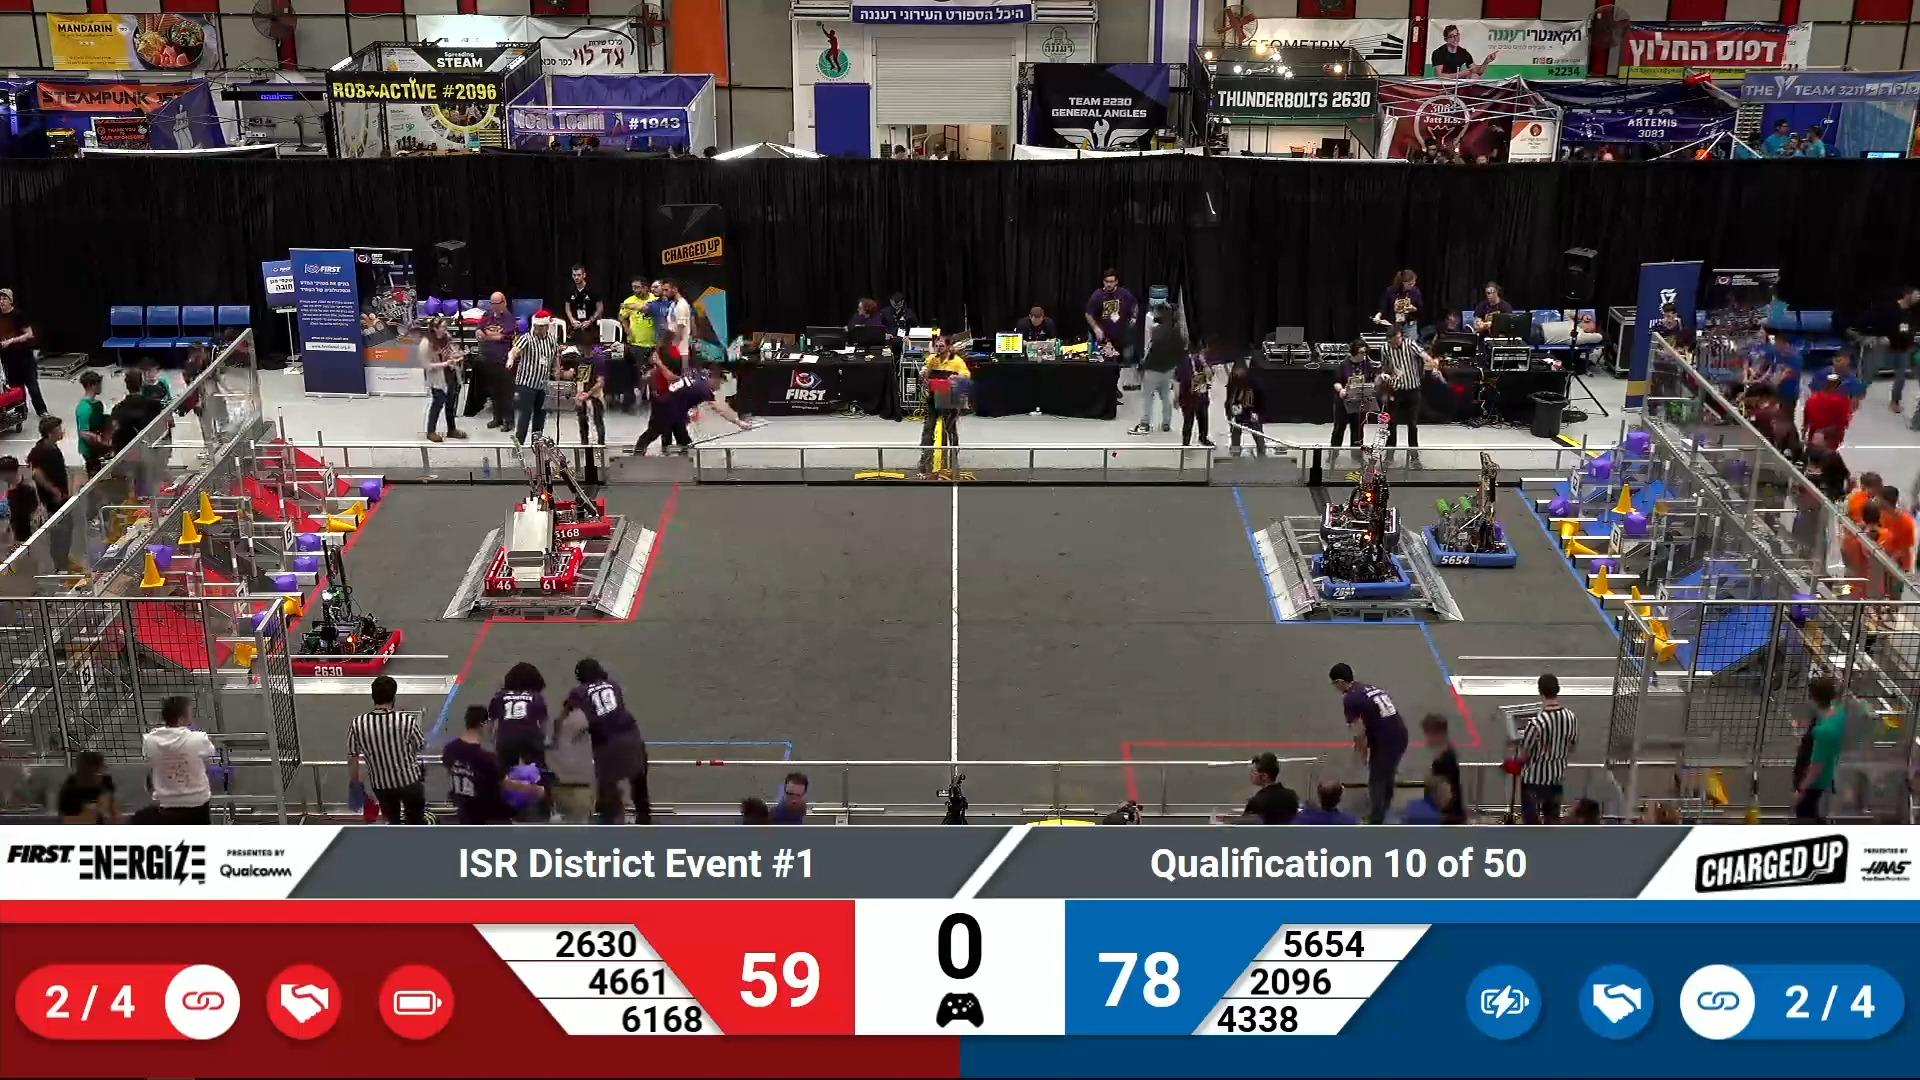robot: (290, 559, 401, 678), (513, 430, 617, 537), (1424, 462, 1522, 570), (480, 506, 585, 596), (1319, 450, 1406, 545), (1303, 531, 1418, 601)
